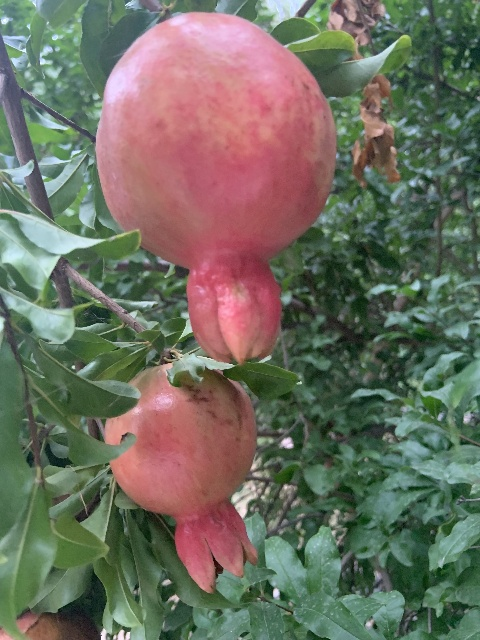ripe: (94, 11, 338, 365), (103, 362, 257, 593)
